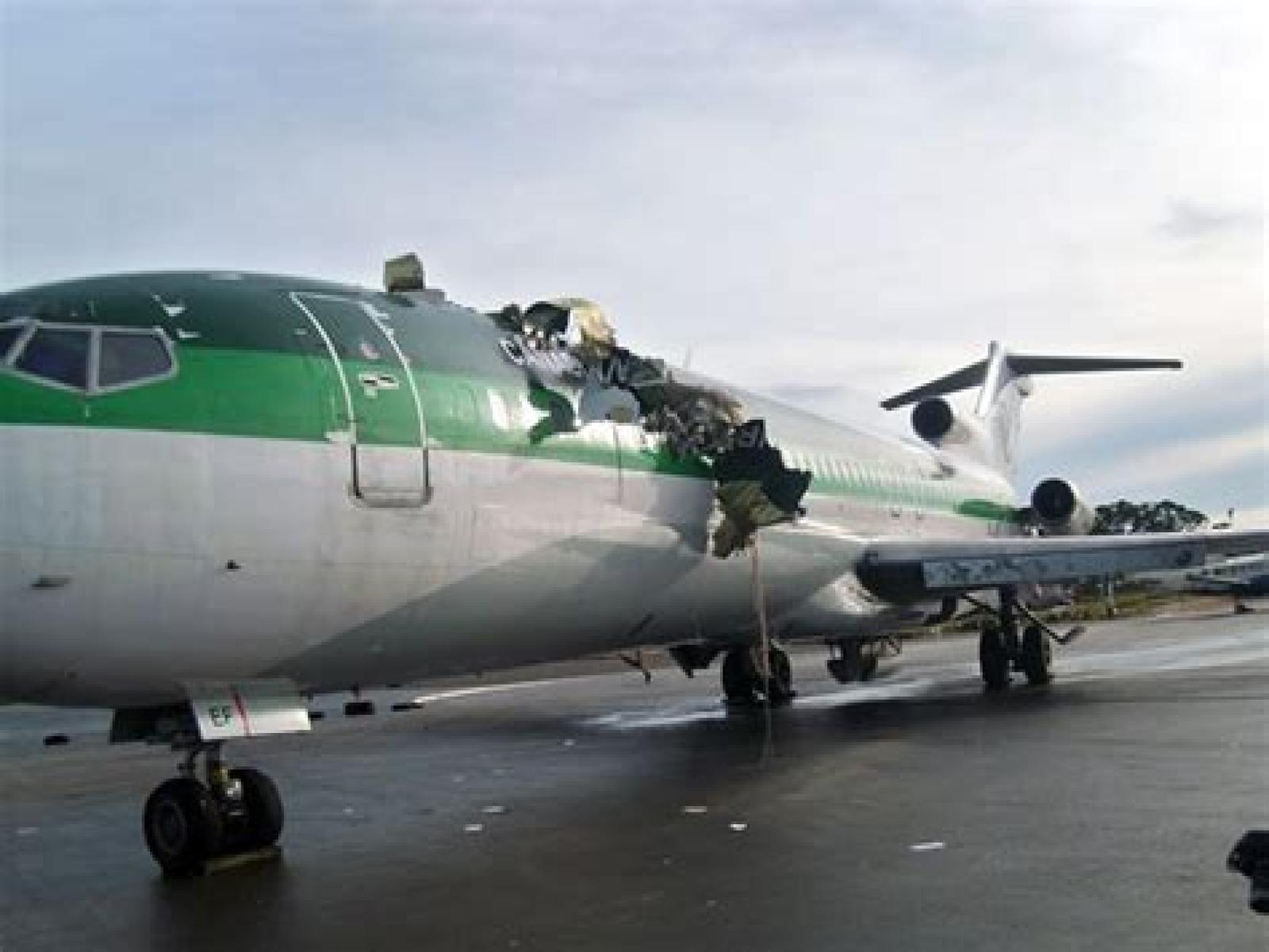Fuselage_damage: (487, 298, 664, 429), (576, 347, 742, 462), (715, 420, 809, 554), (386, 255, 423, 289)
